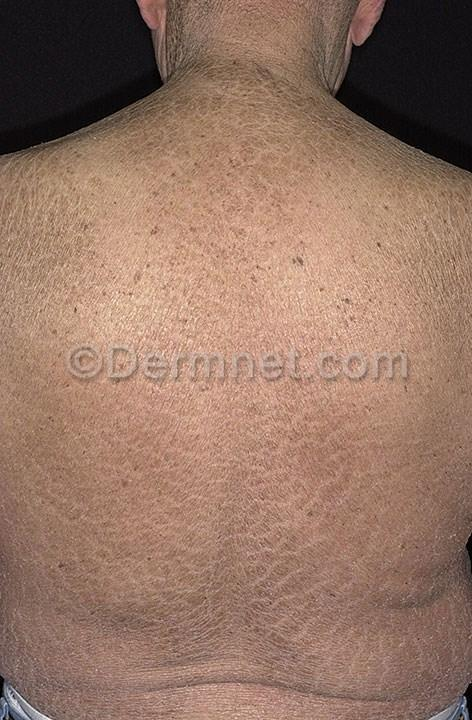liquenificacion 1: (0, 0, 471, 719)
xerosis 1: (2, 573, 153, 719), (379, 542, 471, 719), (166, 0, 352, 83)
